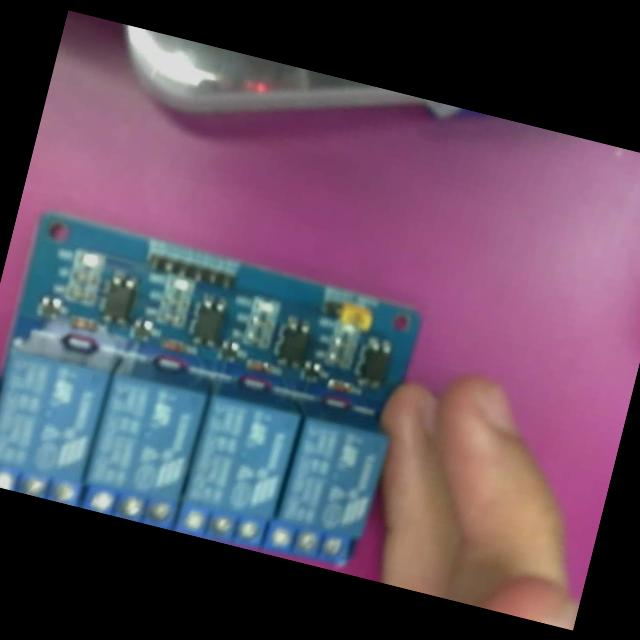relay_module: (0, 208, 425, 577)
